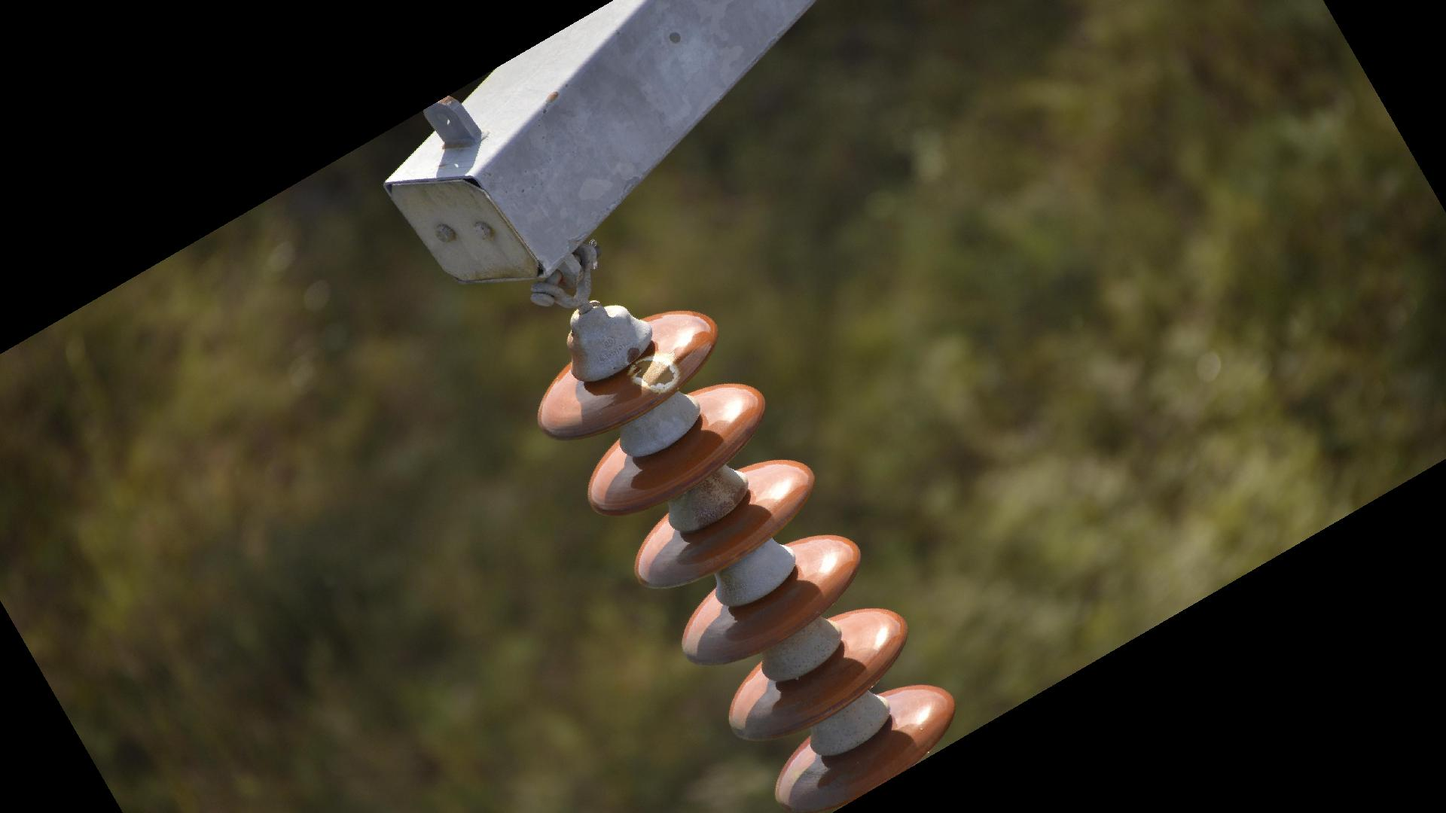insulator: (532, 303, 962, 813)
insulator_flashover: (626, 353, 682, 397)
